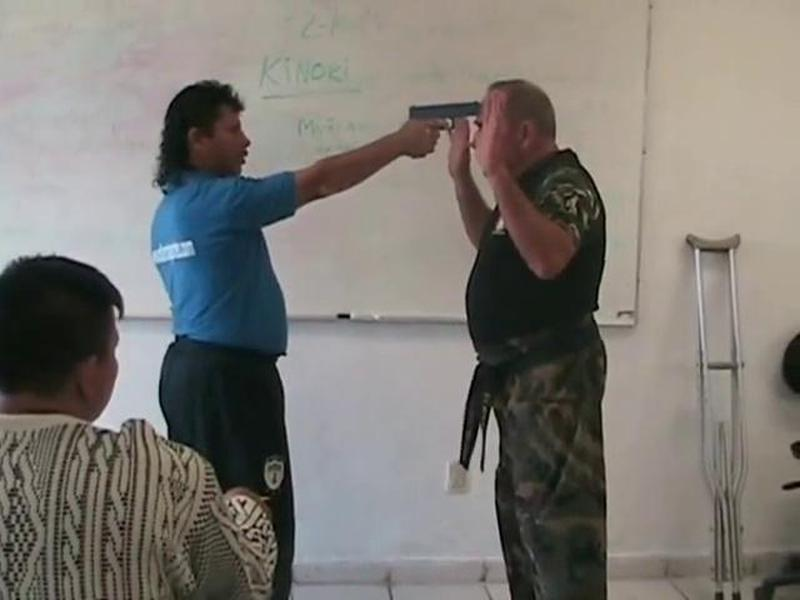Pistola: (399, 91, 484, 144)
